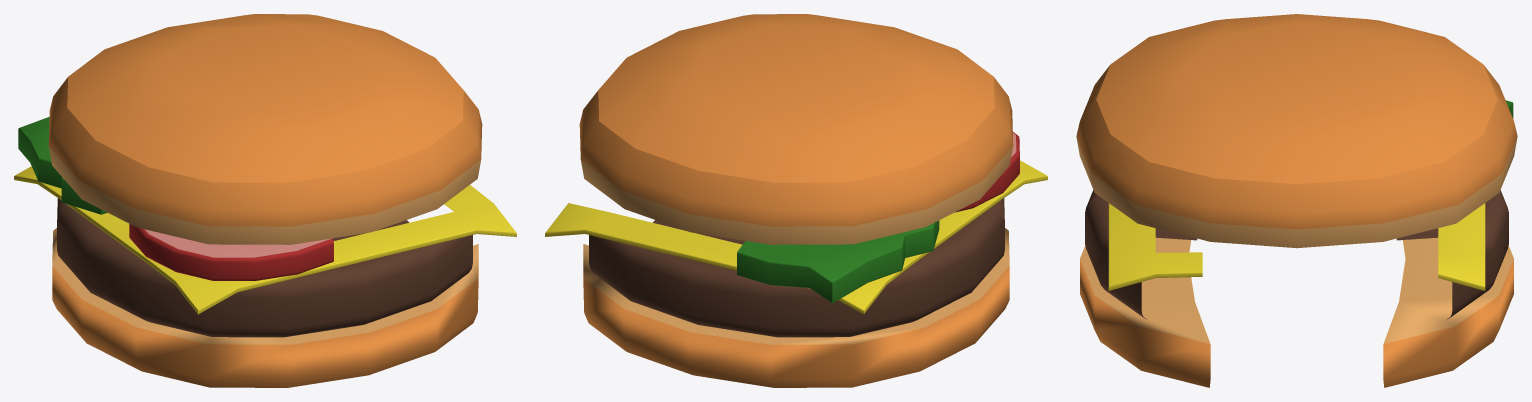
The model's file is only_burger.fbx.
3 renders of one model, left to right at view 1: azimuth 30°, elevation 25°; view 2: azimuth 150°, elevation 25°; view 3: azimuth 270°, elevation 25°, orthographic. The views are drawn at different scales.
Visible parts, largest first — view 1: burger; view 2: burger; view 3: burger.
Part boxes in pixels (x1,y1,x2,y2): burger: [14, 14, 516, 387]; burger: [545, 14, 1047, 387]; burger: [1076, 14, 1517, 387].
Bounding box in the file's own units: 156 × 94.12 × 156.
